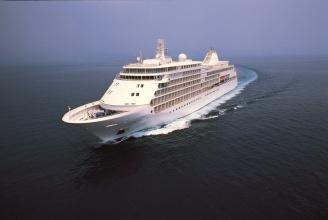youlun: (62, 42, 238, 141)
